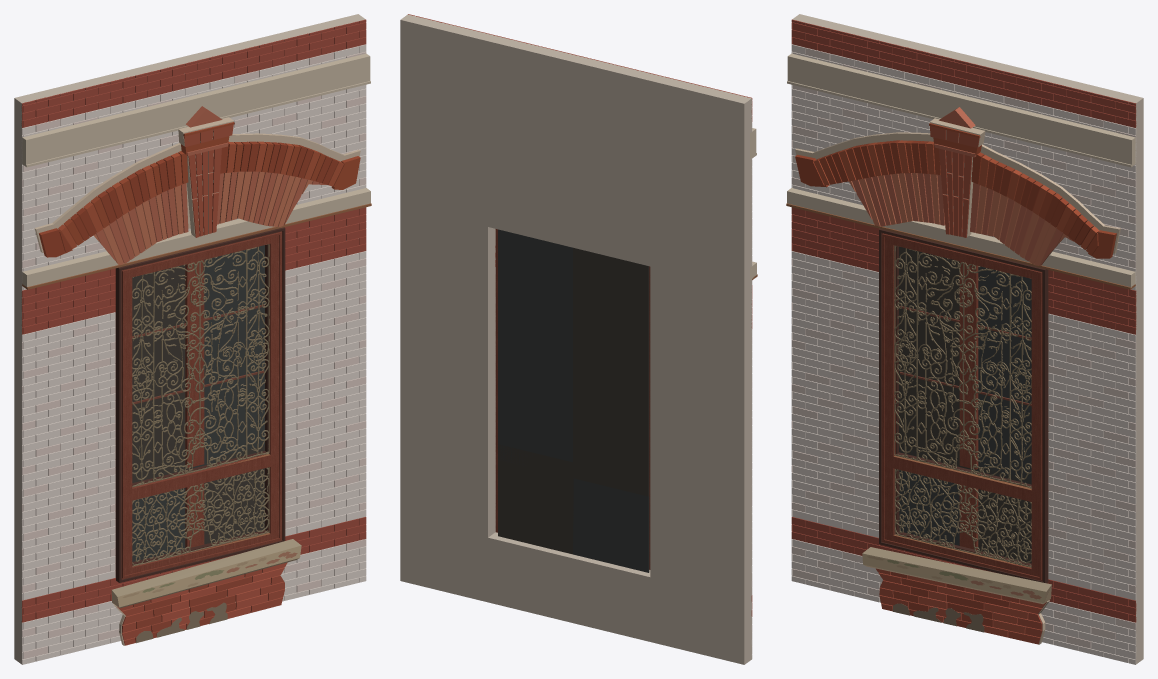
Rendered from jingan-liang-residence-arched-iron-window-raw.glb.
3 views of the same model, side by side, from view 1: azimuth 30°, elevation 25°; view 2: azimuth 150°, elevation 25°; view 3: azimuth 330°, elevation 25° (orthographic).
Parts seen in each view (by area): view 1: 梁氏民宅的砖券铁花窗; view 2: 梁氏民宅的砖券铁花窗; view 3: 梁氏民宅的砖券铁花窗.
Part boxes in pixels (box(x1,y1,x2,y2)): 梁氏民宅的砖券铁花窗: box(14, 14, 371, 664); 梁氏民宅的砖券铁花窗: box(400, 14, 757, 664); 梁氏民宅的砖券铁花窗: box(786, 14, 1143, 664).
Bounding box in the file's own units: 3.07 × 4.79 × 0.32.
Materials: 29 (1 with a texture image).
